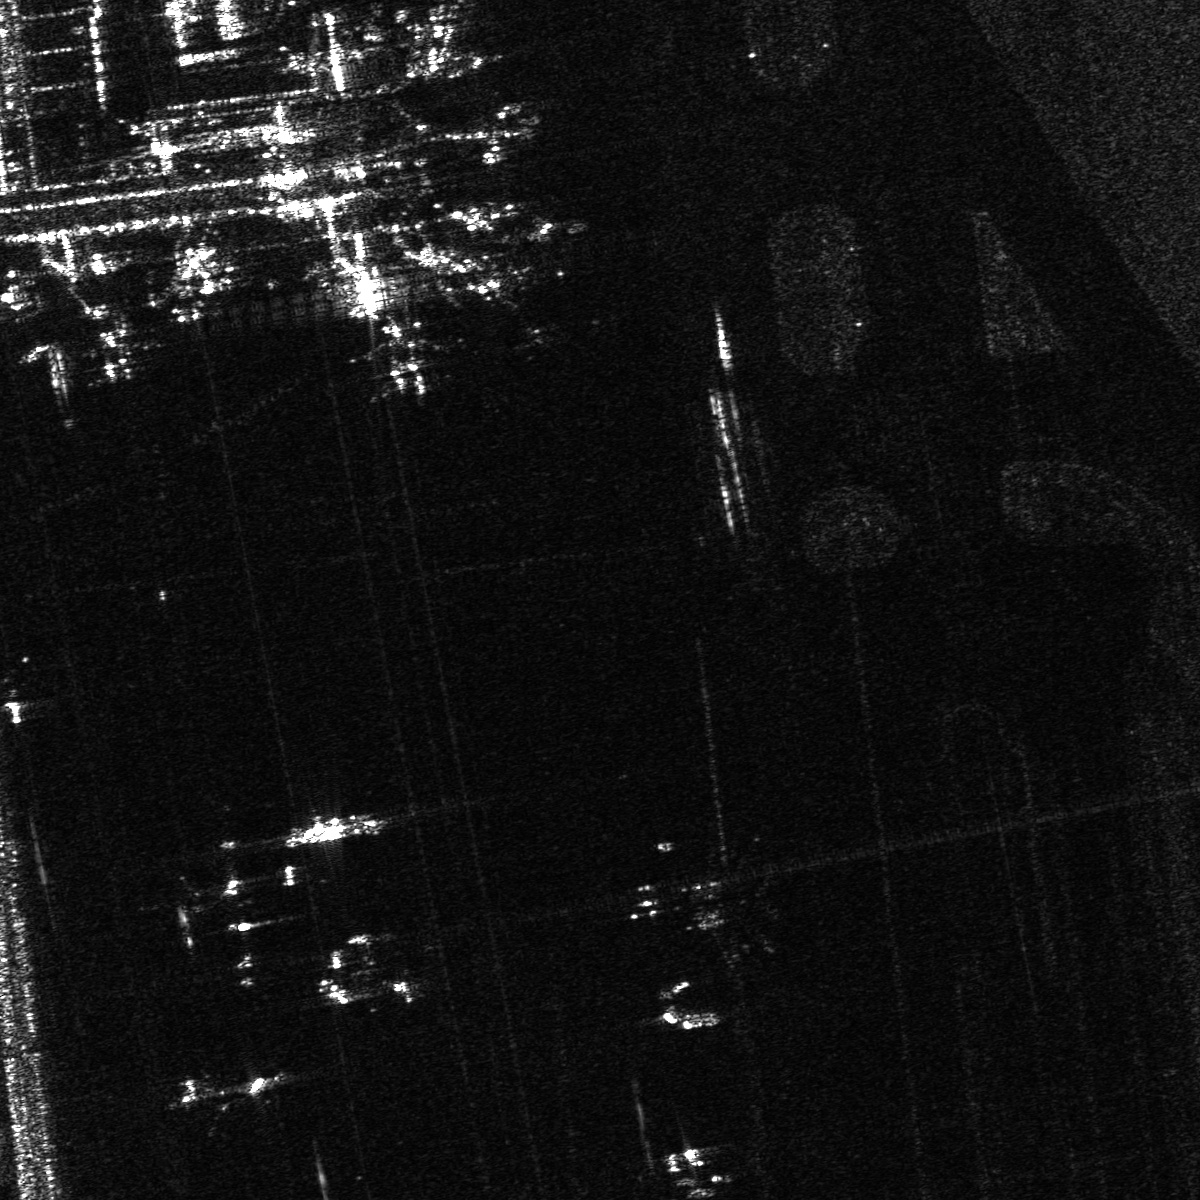Boeing737: (351, 321, 456, 403)
